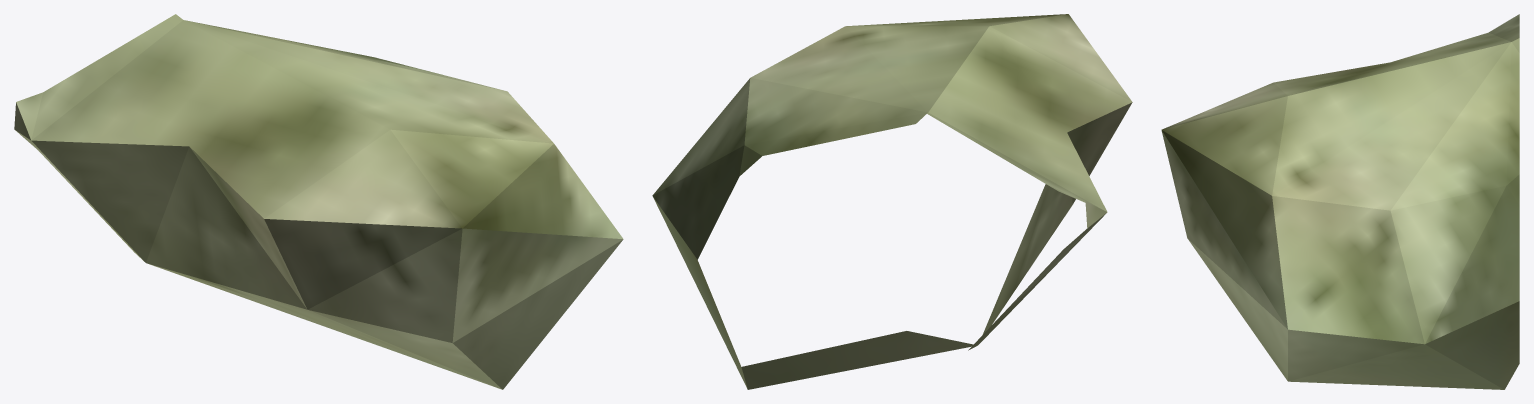
3 views of the same model, side by side, from view 1: azimuth 30°, elevation 25°; view 2: azimuth 150°, elevation 25°; view 3: azimuth 270°, elevation 25° (orthographic). The views are drawn at different scales.
Size of the model in its own units: 0.334 by 0.2127 by 0.2508.
Materials: 1 (1 with a texture image).
